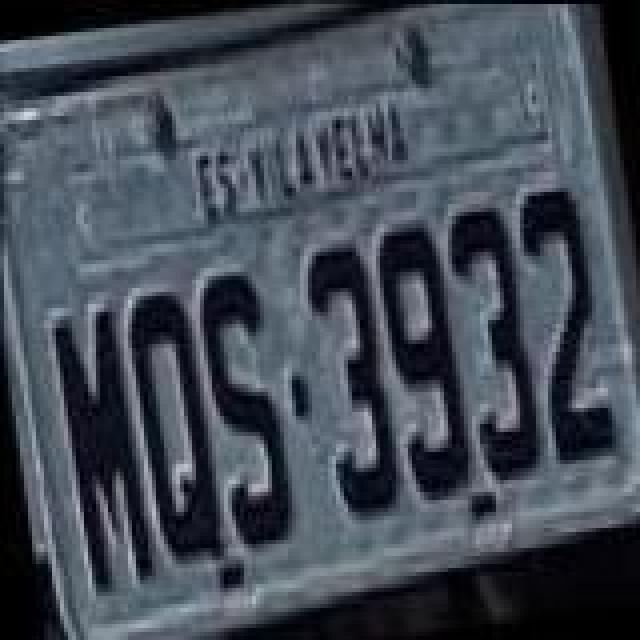2: (512, 180, 620, 468)
3: (436, 196, 544, 488), (296, 234, 404, 522)
9: (368, 216, 476, 508)
M: (48, 300, 156, 596)
Q: (120, 280, 228, 572)
S: (188, 262, 296, 558)
